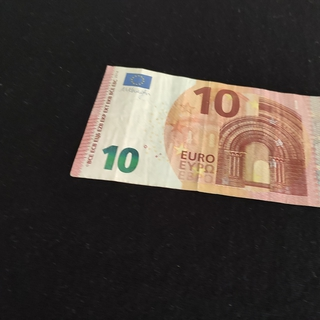10EUROFront: (70, 64, 320, 212)
